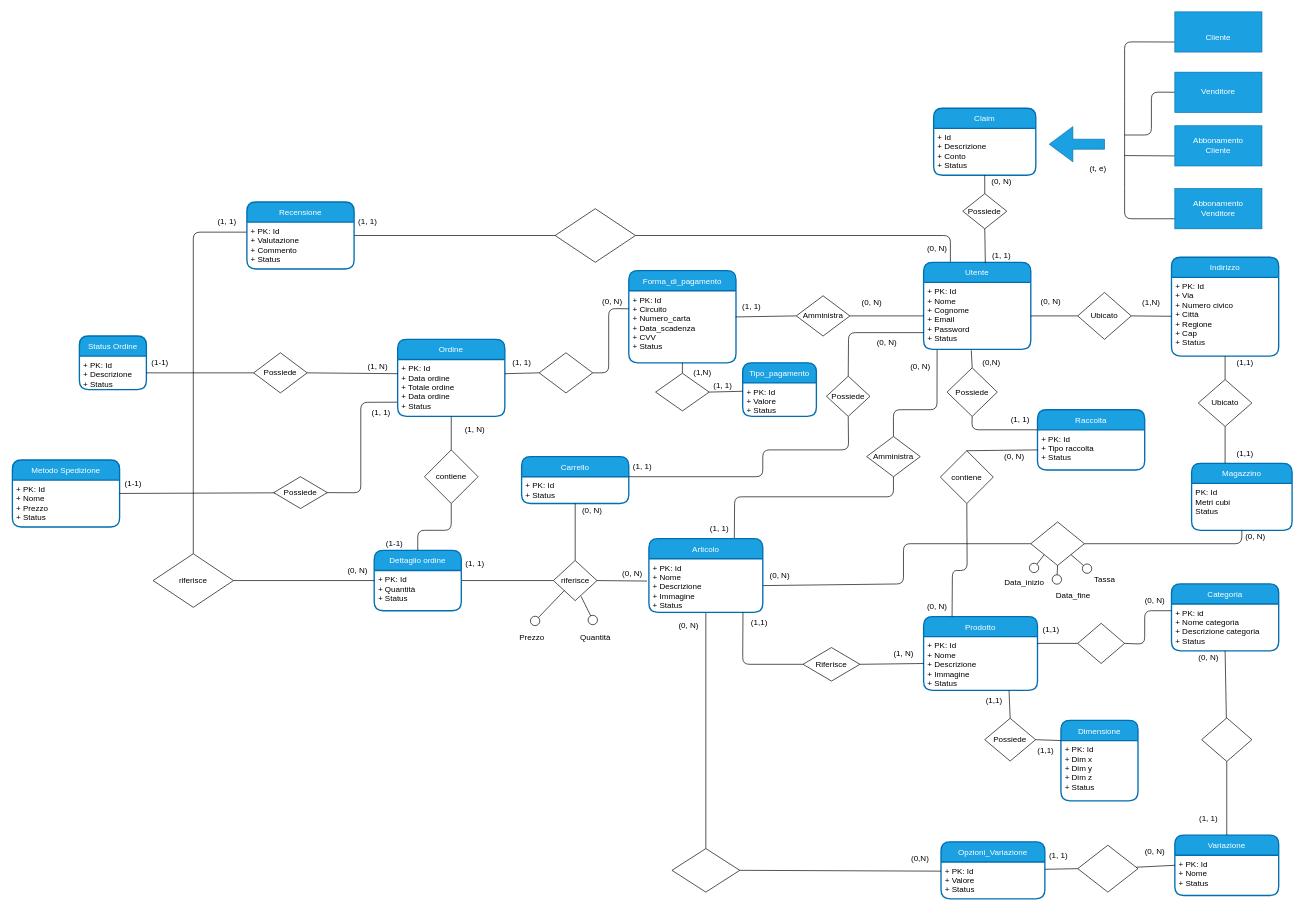
Some shapes in this 1304 by 911 pixel diagram are drawn without their labels. Here are the shapes that lost their labels. From the top down, the centre of each, then its label:
At point 594,235: "Scrive".
At point 565,372: "Effettuato".
At point 682,392: "Rispettivo".
At point 1057,543: "Risiede".
At point 1101,643: "appartiene".
At point 1226,739: "appertiene".
At point 705,870: "Configurazione".
At point 1107,868: "Composto".
